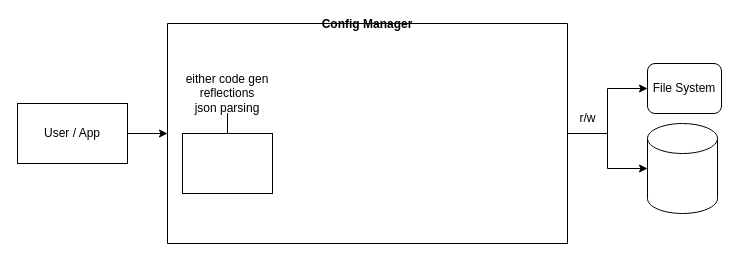
Some shapes in this 739 by 261 pixel diagram are drawn without their labels. The centre of each missing label's shape, as x and y in pixels:
"MongoDB" goes at point 682,168.
"Somewhat parsing config type" goes at point 227,163.
